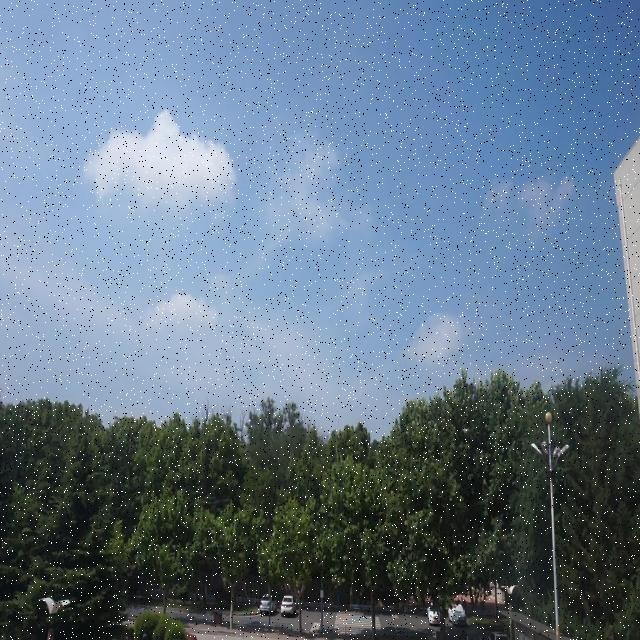UAV: (462, 428, 469, 434)
